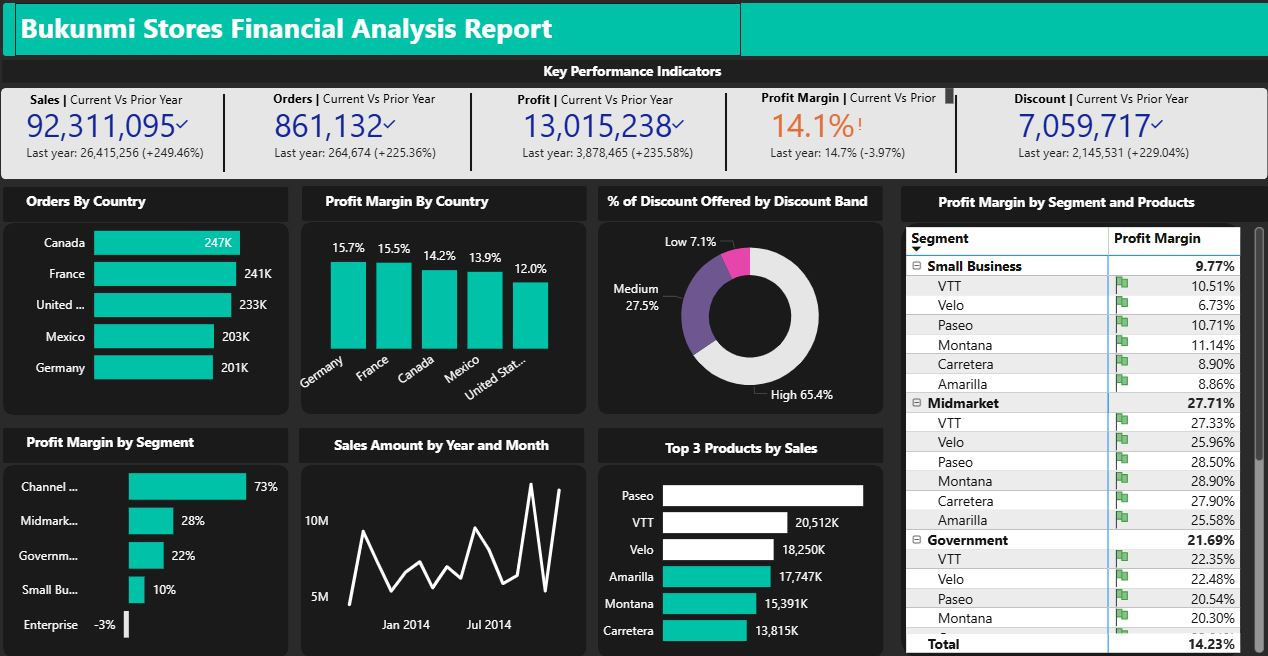

What the dashboard file says about the page in this screenshot:
{"tool":"powerbi","page":{"name":"Page 2","canvas":[1280,720],"ordinal":0},"visuals":[{"type":"shape","box":[896.2,267.5,331.2,422.5],"z":0},{"type":"shape","box":[22.4,53.5,1232.3,51.6],"z":1000},{"type":"shape","box":[21.4,108.9,1232.3,22.4],"z":2000},{"type":"shape","box":[20.8,136.1,1232.1,88.8],"z":3000},{"type":"shape","box":[22.4,267.5,278.2,186.7],"z":4000},{"type":"shape","box":[22.7,232.4,277.8,34],"z":5000},{"type":"shape","box":[22.7,466.8,277.8,34],"z":6000},{"type":"shape","box":[22.7,502.7,277.8,187.1],"z":7000},{"type":"shape","box":[600.9,502.7,277.8,187.1],"z":8000},{"type":"shape","box":[311.8,502.7,277.8,187.1],"z":9000},{"type":"shape","box":[311.8,266.5,277.8,187.1],"z":10000},{"type":"shape","box":[600.9,266.5,277.8,187.1],"z":11000},{"type":"shape","box":[309.9,466.8,277.8,34],"z":12000},{"type":"shape","box":[600.9,466.8,277.8,34],"z":13000},{"type":"shape","box":[313.2,231.5,277.2,34],"z":14000},{"type":"shape","box":[601.1,231.5,277.2,34],"z":15000},{"type":"textbox","box":[34,53.5,706.1,51.6],"z":16000},{"type":"textbox","box":[502.9,105,237.3,31.1],"z":17000},{"type":"kpi","fields":{"Indicator":["Analysis.Sales Amount"],"TrendLine":["Date Table.Year"],"Goal":["Analysis.Sales Amount LY"]},"box":[32.1,136.1,193.6,86.6],"z":18000},{"type":"textbox","box":[3.9,132.3,237.3,31.1],"z":19000},{"type":"shape","box":[50.6,142,373.5,75.9],"z":20000},{"type":"kpi","fields":{"TrendLine":["Date Table.Year"],"Goal":["Analysis.Orders LY"],"Indicator":["Analysis.Orders"]},"box":[273.3,136.1,193.6,86.6],"z":21000},{"type":"kpi","fields":{"TrendLine":["Date Table.Year"],"Indicator":["Analysis.Profits"],"Goal":["Analysis.Profit LY"]},"box":[514.5,136.1,193.6,86.6],"z":22000},{"type":"kpi","fields":{"TrendLine":["Date Table.Year"],"Indicator":["Analysis.Profit Margin"],"Goal":["Analysis.Profit Margin LY"]},"box":[755.7,136.1,193.6,86.6],"z":23000},{"type":"kpi","fields":{"TrendLine":["Date Table.Year"],"Indicator":["Analysis.Discount Offered"],"Goal":["Analysis.Discount Offerd LY"]},"box":[997,136.1,193.6,86.6],"z":24000},{"type":"shape","box":[290.8,141,373.5,75.9],"z":25000},{"type":"shape","box":[538.8,141,373.5,75.9],"z":26000},{"type":"shape","box":[762.6,143,373.5,75.9],"z":27000},{"type":"textbox","box":[240.2,131.3,237.3,31.1],"z":28000},{"type":"textbox","box":[477.6,132.3,237.3,31.1],"z":29000},{"type":"textbox","box":[714.9,131.3,237.3,31.1],"z":30000},{"type":"textbox","box":[961,131.3,237.3,31.1],"z":31000},{"type":"barChart","fields":{"Category":["Financials.Country"],"Y":["Analysis.Orders"]},"box":[33.8,250,257.5,187.5],"z":32000},{"type":"textbox","box":[0,231.2,237.5,31.2],"z":33000},{"type":"clusteredColumnChart","fields":{"Y":["Analysis.Profit Margin"],"Category":["Financials.Country"]},"box":[301.2,267.5,275,186.2],"z":34000},{"type":"textbox","box":[291.2,231.2,237.5,31.2],"z":35000},{"type":"donutChart","fields":{"Category":["Financials.Discount Band"],"Y":["Analysis.Discount Offerd LY"]},"box":[611.2,262.5,276.2,191.2],"z":36000},{"type":"textbox","box":[565,231.2,320,31.2],"z":37000},{"type":"barChart","fields":{"Category":["Financials.Segment"],"Y":["Analysis.Profit Margin"]},"box":[21.4,484.3,280,205.7],"z":38000},{"type":"lineChart","fields":{"Category":["Date Table.Date.Variation.Date Hierarchy.Year","Date Table.Date.Variation.Date Hierarchy.Month"],"Y":["Analysis.Sales Amount"]},"box":[310,483.8,280,192.5],"z":39000},{"type":"barChart","fields":{"Y":["Analysis.Sales Amount"],"Category":["Financials.Product"]},"box":[596.2,498.8,316.2,191.2],"z":40000},{"type":"shape","box":[896.2,231.2,357.5,35],"z":41000},{"type":"textbox","box":[0,466.2,237.5,31.2],"z":42000},{"type":"textbox","box":[300,468.8,287.5,31.2],"z":43000},{"type":"textbox","box":[621.2,471.2,237.5,31.2],"z":44000},{"type":"pivotTable","fields":{"Rows":["Financials.Segment","Financials.Product"],"Values":["Analysis.Profit Margin"]},"box":[896.2,266.2,357.5,423.8],"z":45000},{"type":"textbox","box":[887.5,232.5,320,31.2],"z":46000}]}

Visuals, with their boxes in screenshot pixels (x1, y1, x2, y2):
shape: 906 210 1215 604
shape: 90 10 1240 58
shape: 89 62 1239 83
shape: 89 87 1238 170
shape: 90 210 350 384
shape: 91 177 350 209
shape: 91 396 350 428
shape: 91 429 350 604
shape: 630 429 889 604
shape: 360 429 620 604
shape: 360 209 620 384
shape: 630 209 889 384
shape: 359 396 618 428
shape: 630 396 889 428
shape: 362 176 620 208
shape: 630 176 889 208
textbox: 101 10 760 58
textbox: 539 58 760 87
kpi - Analysis.Sales Amount x Date Table.Year: 99 87 280 168
textbox: 73 84 294 113
shape: 117 93 465 164
kpi - Date Table.Year x Analysis.Orders LY: 324 87 505 168
kpi - Date Table.Year x Analysis.Profits: 549 87 730 168
kpi - Date Table.Year x Analysis.Profit Margin: 774 87 955 168
kpi - Date Table.Year x Analysis.Discount Offered: 1000 87 1180 168
shape: 341 92 689 163
shape: 572 92 921 163
shape: 781 94 1129 165
textbox: 293 83 515 112
textbox: 515 84 736 113
textbox: 736 83 958 112
textbox: 966 83 1187 112
barChart - Financials.Country x Analysis.Orders: 101 194 341 369
textbox: 69 176 291 205
clusteredColumnChart - Analysis.Profit Margin x Financials.Country: 350 210 607 384
textbox: 341 176 563 205
donutChart - Financials.Discount Band x Analysis.Discount Offerd LY: 640 205 897 384
textbox: 597 176 895 205
barChart - Financials.Segment x Analysis.Profit Margin: 89 412 351 604
lineChart - Date Table.Date.Variation.Date Hierarchy.Year x Date Table.Date.Variation.Date Hierarchy.Month: 359 412 620 591
barChart - Analysis.Sales Amount x Financials.Product: 626 426 921 604
shape: 906 176 1239 209
textbox: 69 395 291 425
textbox: 349 398 618 427
textbox: 649 400 871 429
pivotTable - Financials.Segment x Financials.Product: 906 209 1239 604
textbox: 897 177 1196 206
